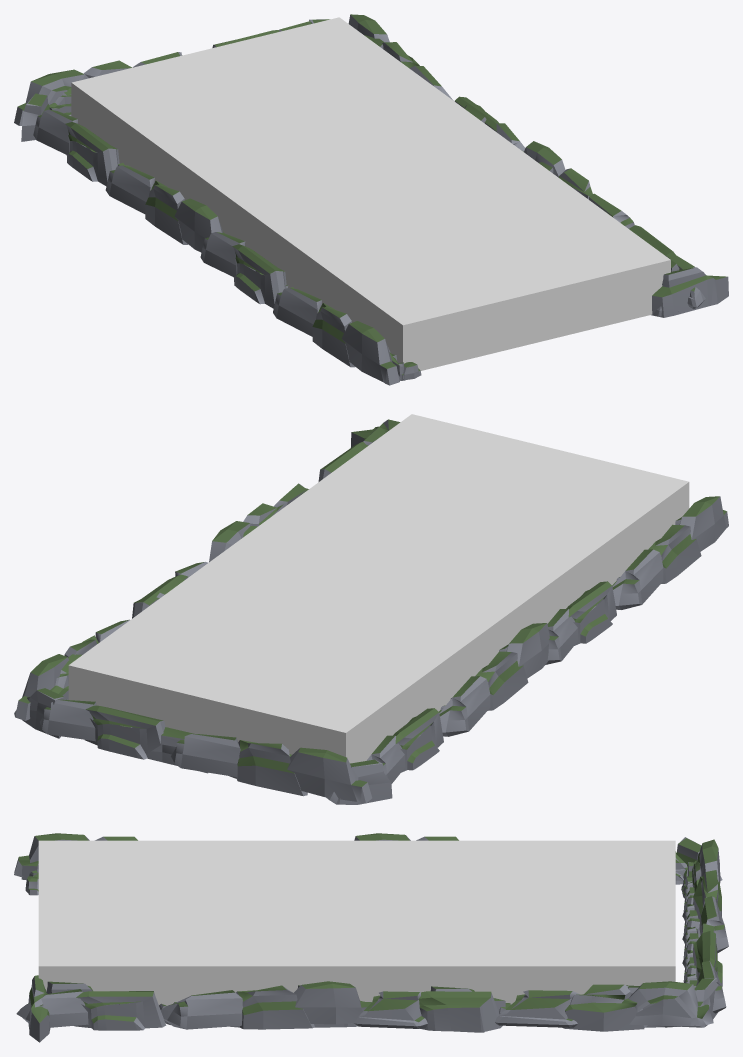
Rendered from RockWall.gltf.
The picture shows the model from 3 angles, top to bottom: view 1: azimuth 30°, elevation 25°; view 2: azimuth 150°, elevation 25°; view 3: azimuth 270°, elevation 25°; orthographic projection. The views are drawn at different scales.
Parts seen in each view (by area): view 1: COL01, RockWall.101; view 2: COL01, RockWall.101; view 3: COL01, RockWall.101.
Part boxes in pixels (left/top/right/bottom): COL01: left=71, top=17, right=670, bottom=370; RockWall.101: left=14, top=14, right=728, bottom=385; COL01: left=68, top=414, right=689, bottom=763; RockWall.101: left=14, top=419, right=728, bottom=804; COL01: left=38, top=840, right=675, bottom=1005; RockWall.101: left=14, top=833, right=728, bottom=1042.
Bounding box in the file's own units: 156 × 20.87 × 269.
